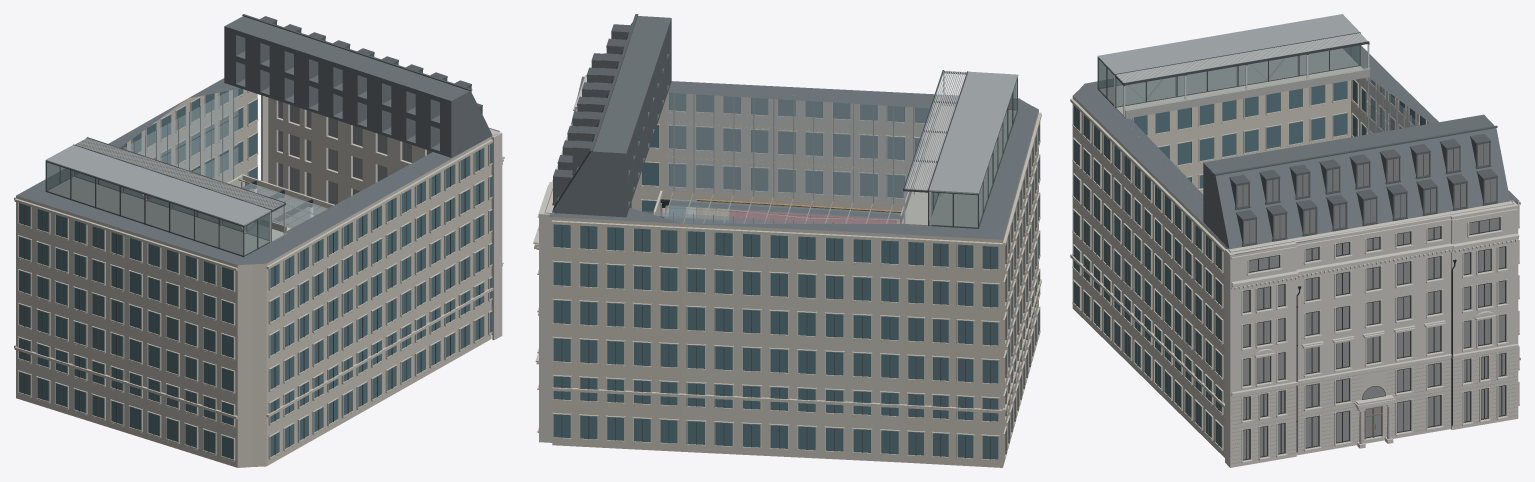
Rendered from ckk-exterior-06b27b1c7308.glb.
The picture shows the model from 3 angles, left to right: view 1: azimuth 30°, elevation 25°; view 2: azimuth 150°, elevation 25°; view 3: azimuth 270°, elevation 25°; orthographic projection. The views are drawn at different scales.
Visible parts, largest first — view 1: CKK.001; view 2: CKK.001; view 3: CKK.001.
Boxes of the visible parts, x1,y1,x2,y2 form: CKK.001: (14, 14, 504, 467); CKK.001: (533, 14, 1041, 467); CKK.001: (1070, 14, 1520, 467).
Bounding box in the file's own units: 56.1 × 32.3 × 47.89.
